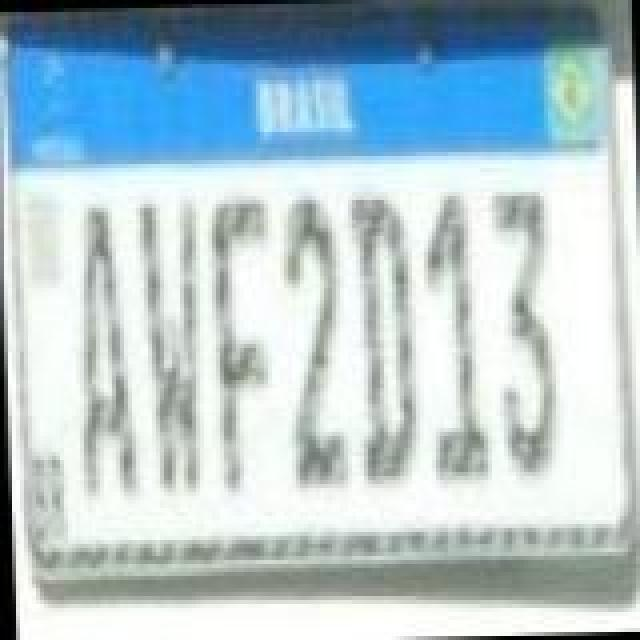1: (416, 182, 492, 482)
2: (276, 190, 352, 498)
3: (484, 184, 560, 484)
A: (66, 200, 138, 504)
D: (340, 192, 416, 492)
F: (206, 196, 278, 496)
W: (134, 198, 206, 494)
